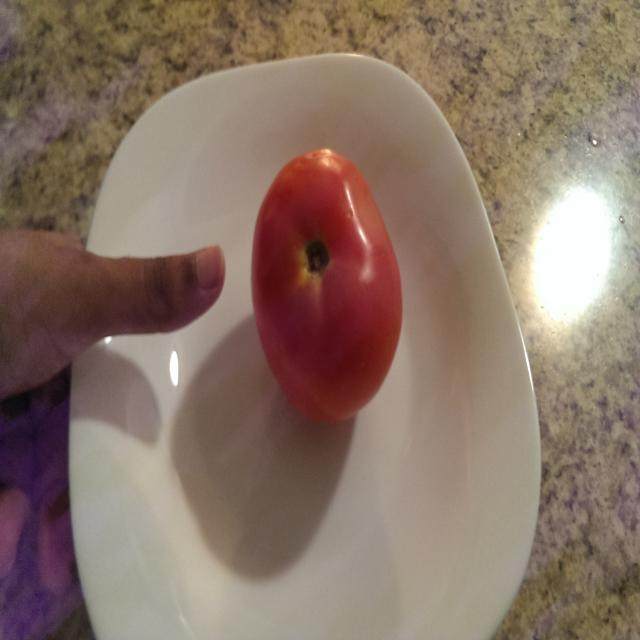tomato: (250, 147, 403, 424)
